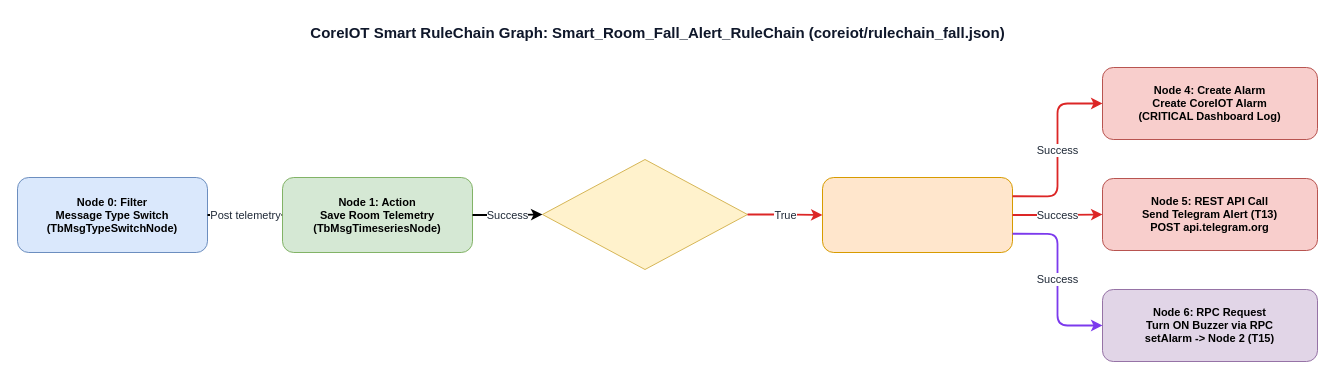
Some shapes in this 1335 by 379 pixel diagram are drawn without their labels. The shapes that lost their labels are listed below. From the top down, each one's box as (x1, y1, x2, y2) in pixels, then its label:
(542, 158, 748, 270): Node 2: JS Filter Check FALL or SOS? FALL & conf>=0.80 || SOS
(822, 176, 1012, 252): Node 3: Transform Format Alert Message (Set alarm_type & text)
